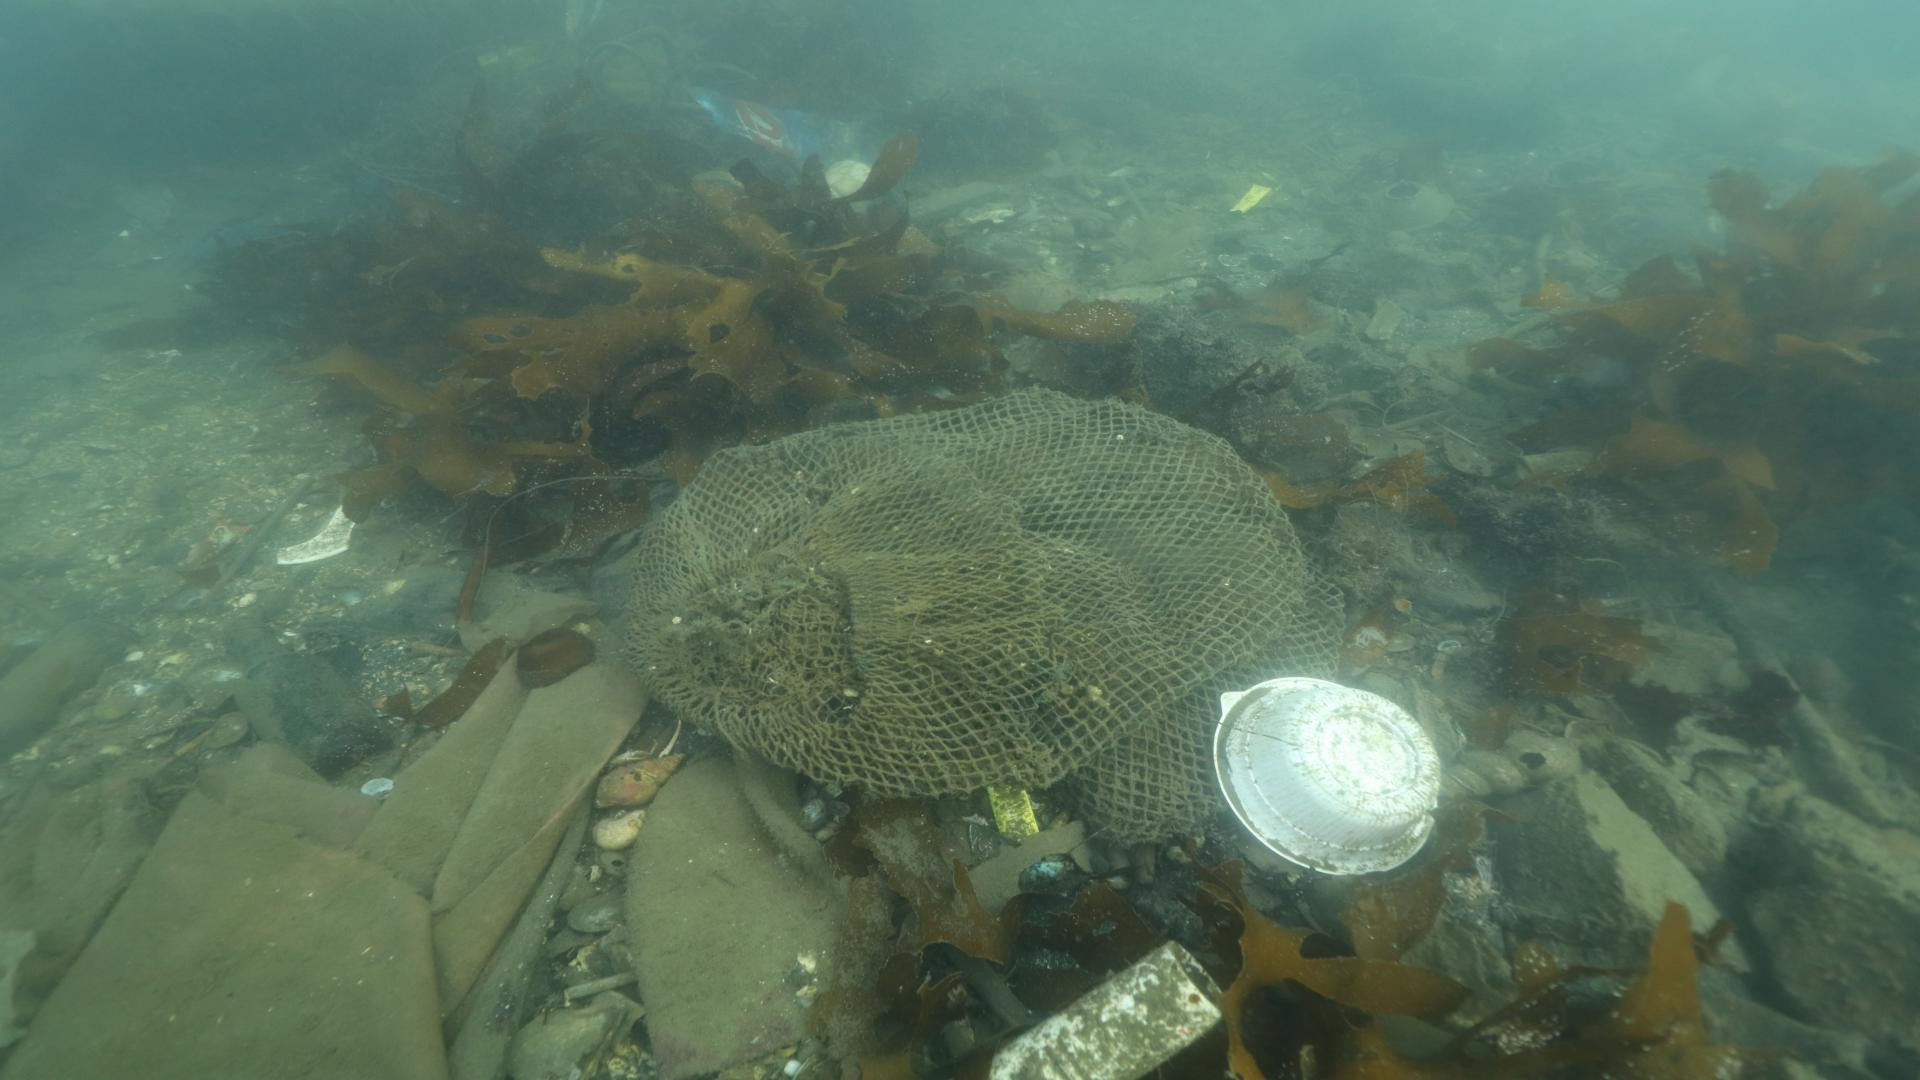fish net: (620, 382, 1346, 849)
